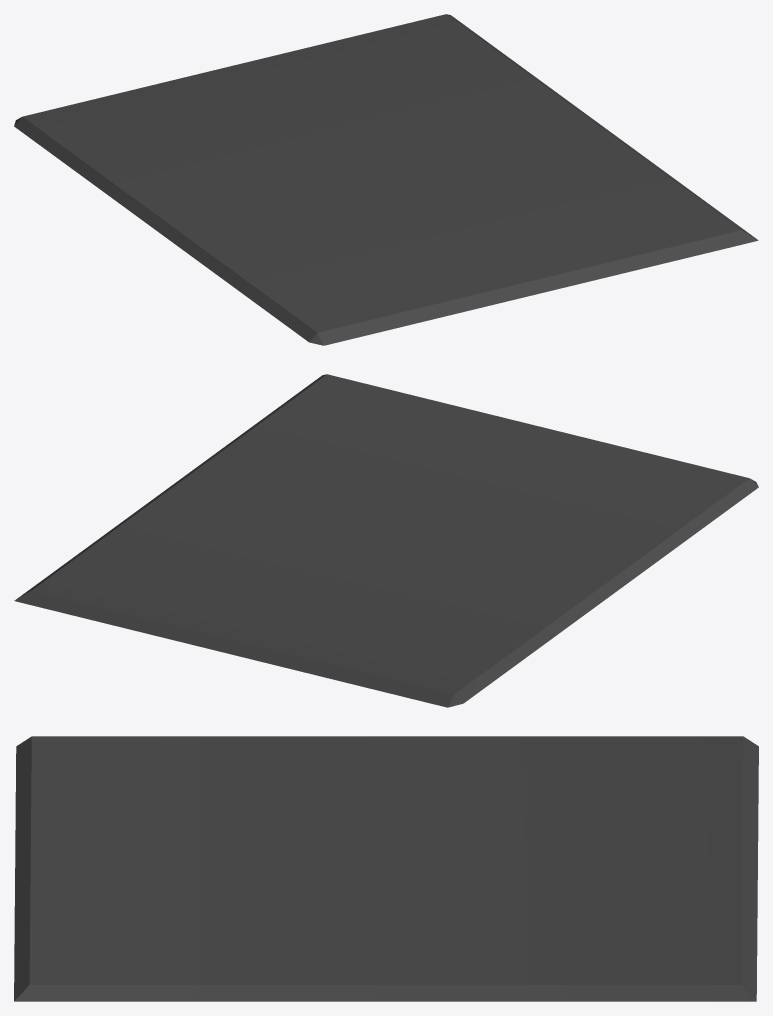
Rendered from street_greeble_2.glb.
The picture shows the model from 3 angles, top to bottom: view 1: azimuth 30°, elevation 25°; view 2: azimuth 150°, elevation 25°; view 3: azimuth 270°, elevation 25°; orthographic projection. The views are drawn at different scales.
Parts seen in each view (by area): view 1: street_greeble_2; view 2: street_greeble_2; view 3: street_greeble_2.
Boxes of the visible parts, <box> form: street_greeble_2: <box>14,14,758,345</box>; street_greeble_2: <box>14,374,758,707</box>; street_greeble_2: <box>14,736,758,1001</box>.
Bounding box in the file's own units: 1.41 × 0.0255 × 1.71.
1 material, 1 textured.
